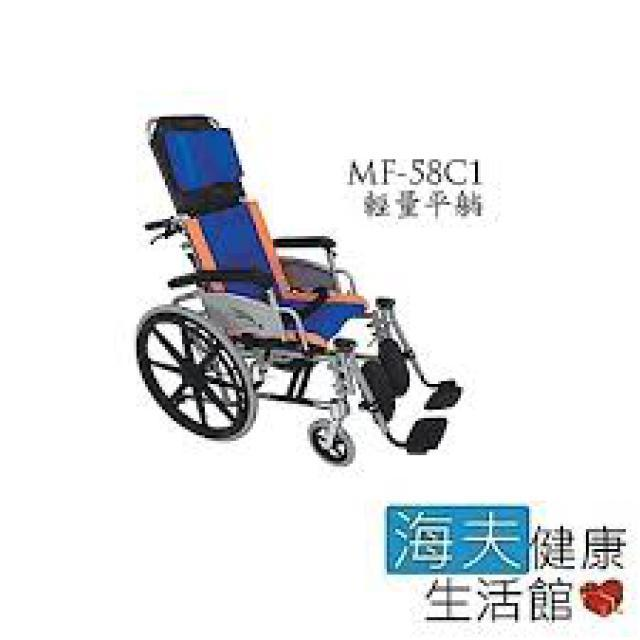wheelchair: (108, 106, 464, 470)
